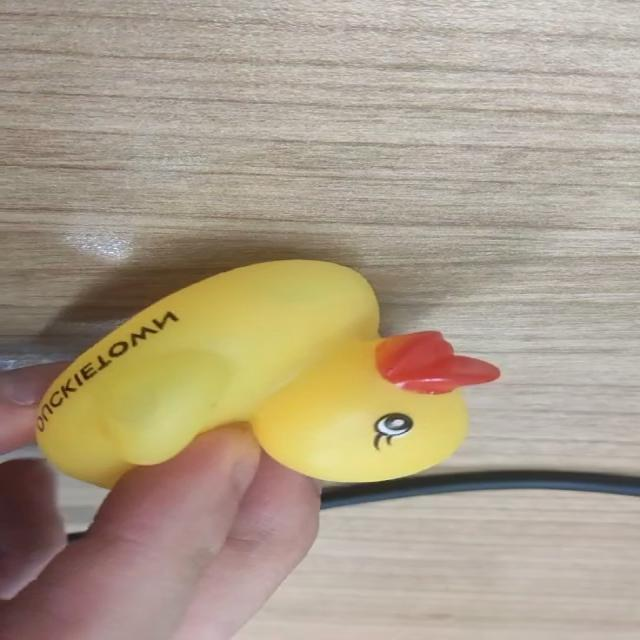rubber-duck: (36, 259, 497, 485)
